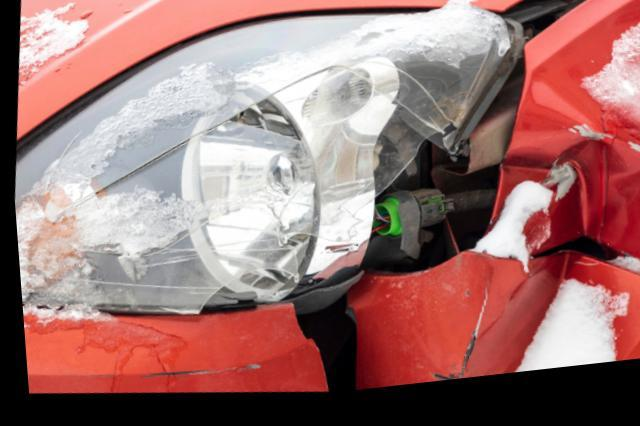crack: (286, 299, 352, 399), (450, 297, 483, 389)
dent: (483, 153, 640, 280)
lamp broken: (11, 15, 519, 318)
scratch: (85, 368, 259, 384)
